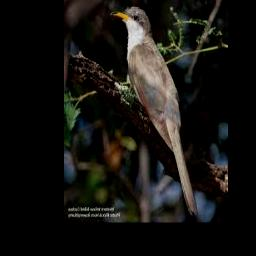Cuckoo: (111, 7, 198, 216)
